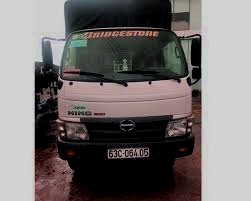Bien-so: (108, 151, 149, 163)
